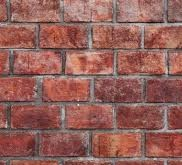brick: (39, 130, 90, 157), (66, 103, 114, 131), (10, 104, 63, 129), (116, 104, 165, 130), (65, 51, 115, 76), (91, 24, 143, 48), (11, 51, 63, 75), (95, 133, 143, 159), (117, 50, 165, 75), (42, 77, 90, 102), (93, 78, 143, 102), (8, 1, 62, 23), (115, 1, 166, 24), (39, 26, 89, 49), (63, 1, 114, 22), (146, 131, 181, 158), (1, 131, 37, 157), (1, 77, 39, 101), (144, 26, 182, 49), (146, 79, 182, 103), (1, 26, 37, 49)
